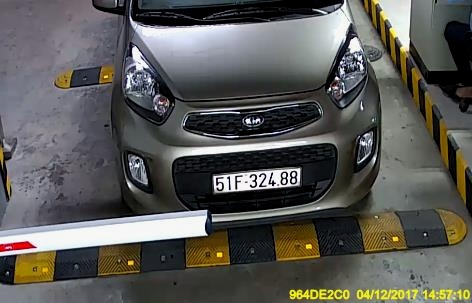plate: (213, 166, 305, 192)
